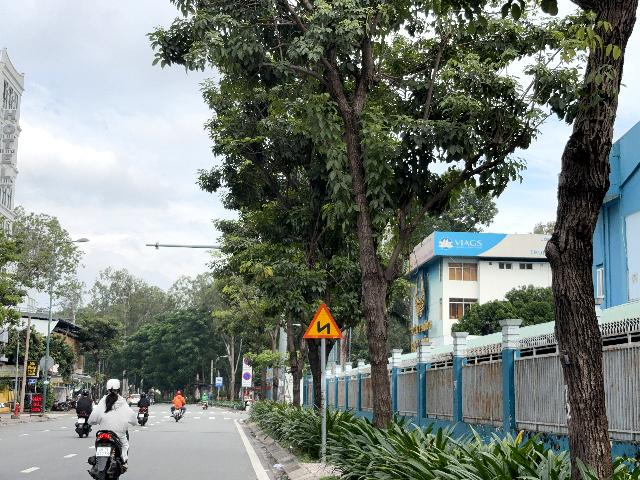nhieu-cho-ngoat-nguy-hiem-lien-tiep: (303, 303, 343, 339)
